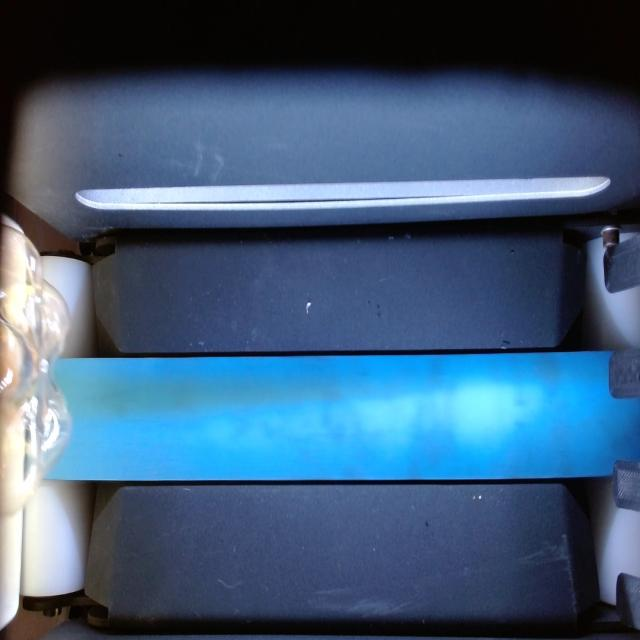bottom: (0, 220, 71, 514)
